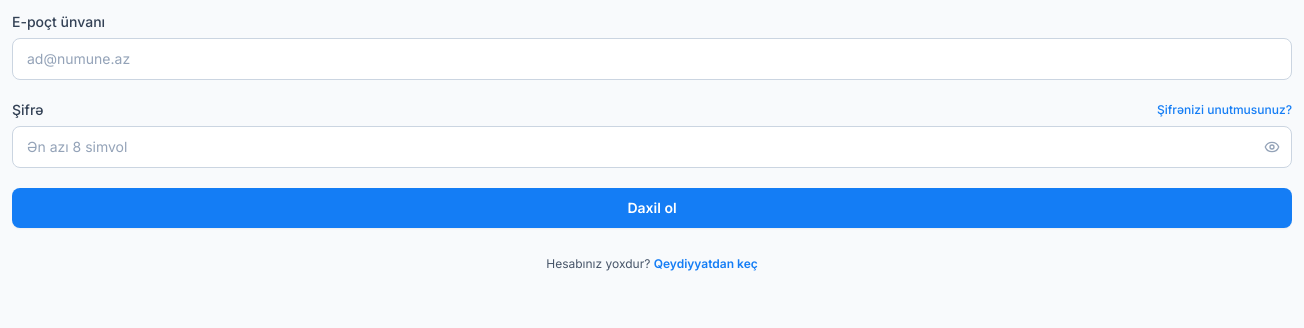
LoginForm Component › validates invalid email format
Type "not-valid-email" into the field labelled "E-poçt ünvanı".
click(652, 59); type("not-valid-email")  # box [12, 38, 1292, 80]
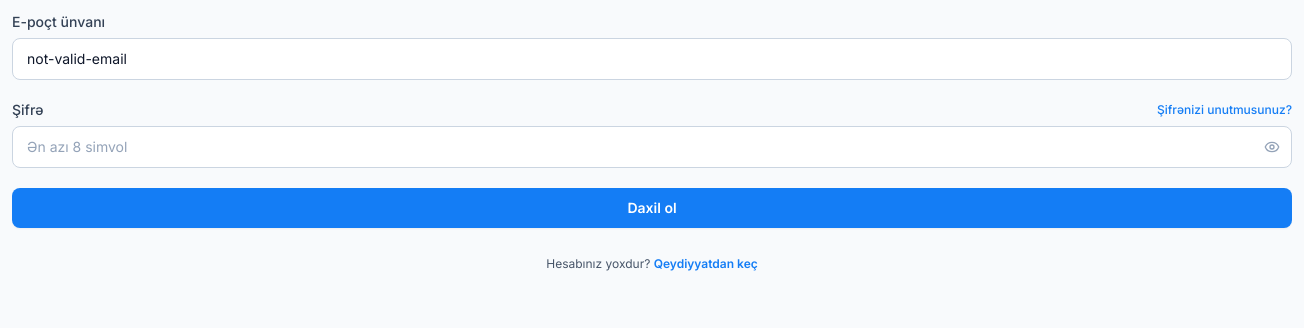
Click the button "Daxil ol".
click(652, 208)  # box [12, 188, 1292, 228]
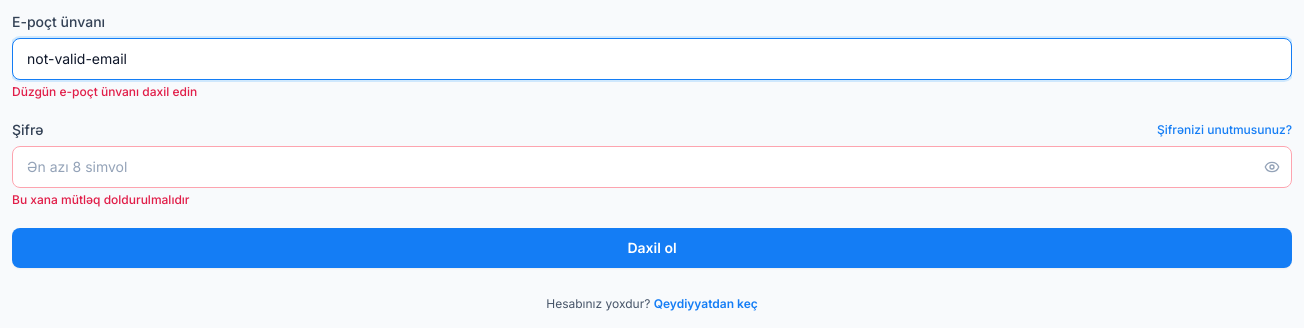
Expected: the text "Düzgün e-poçt ünvanı daxil edin" is shown, [12, 84, 197, 99]
